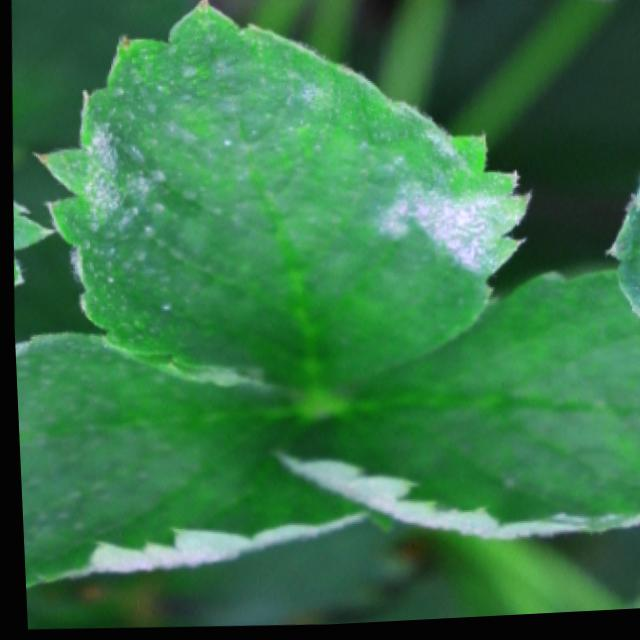Powdery Mildew Leaf: (29, 0, 532, 397), (270, 271, 640, 545), (12, 330, 392, 587)
